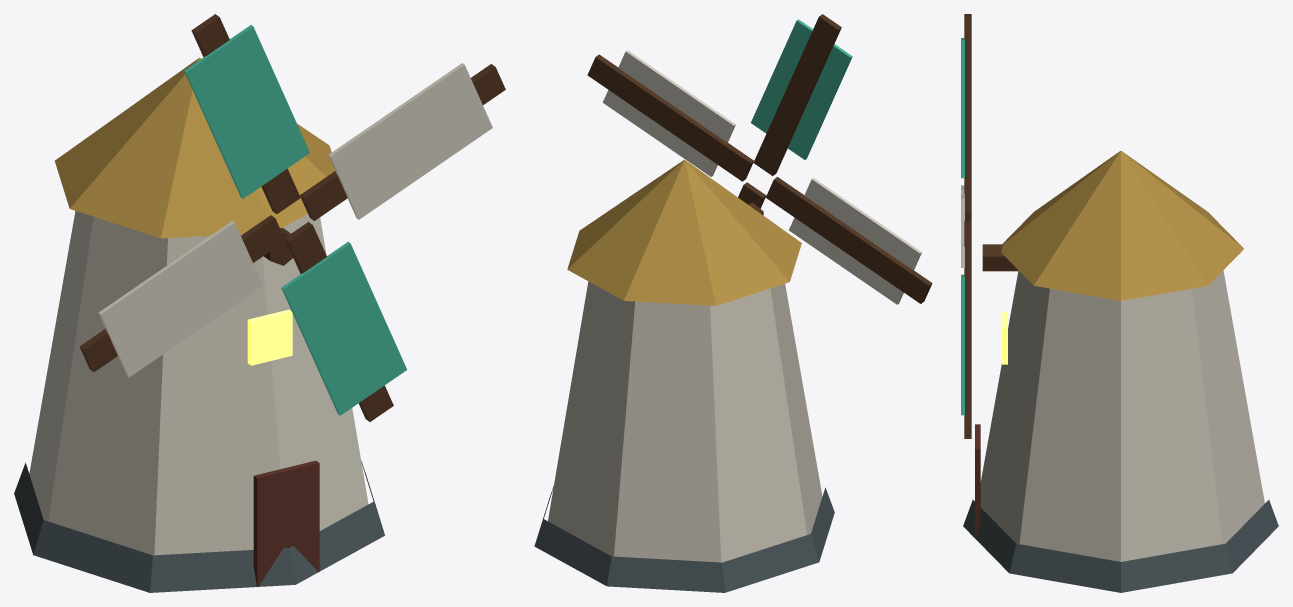
File: prop_windmill.glb
3 views of the same model, side by side, from view 1: azimuth 30°, elevation 25°; view 2: azimuth 150°, elevation 25°; view 3: azimuth 270°, elevation 25° (orthographic). The views are drawn at different scales.
Parts seen in each view (by area): view 1: prop_windmill; view 2: prop_windmill; view 3: prop_windmill.
Part boxes in pixels (x1,y1,x2,y2): prop_windmill: [14, 14, 505, 592]; prop_windmill: [534, 14, 932, 592]; prop_windmill: [961, 14, 1278, 592].
Bounding box in the file's own units: 0.8116 × 1.08 × 0.644.
